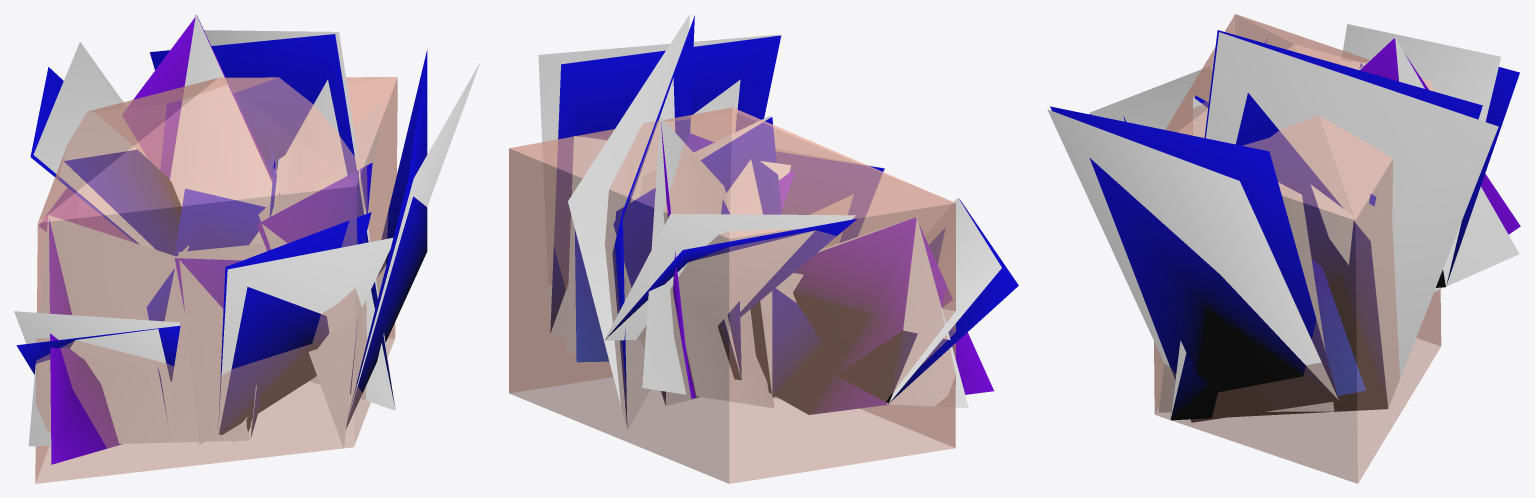
Rendered from Juniper_bush_small_dry_01.dae.
3 renders of one model, left to right at view 1: azimuth 30°, elevation 25°; view 2: azimuth 150°, elevation 25°; view 3: azimuth 270°, elevation 25°, orthographic. The views are drawn at different scales.
Visible parts, largest first — view 1: Colmesh-1, Juniper_small_dry_01_a80, Juniper_small_dry_01_a150; view 2: Colmesh-1, Juniper_small_dry_01_a80, Juniper_small_dry_01_a150; view 3: Juniper_small_dry_01_a80, Juniper_small_dry_01_a150, Colmesh-1.
Boxes of the visible parts, x1,y1,x2,y2 form: Colmesh-1: (35, 77, 397, 483); Juniper_small_dry_01_a80: (14, 14, 480, 448); Juniper_small_dry_01_a150: (16, 15, 427, 464); Colmesh-1: (509, 107, 955, 483); Juniper_small_dry_01_a80: (538, 14, 1001, 430); Juniper_small_dry_01_a150: (550, 15, 1018, 427); Juniper_small_dry_01_a80: (1047, 24, 1519, 418); Juniper_small_dry_01_a150: (1050, 30, 1520, 422); Colmesh-1: (1154, 14, 1441, 483).
Bounding box in the file's own units: 2.61 × 2.17 × 2.01.
